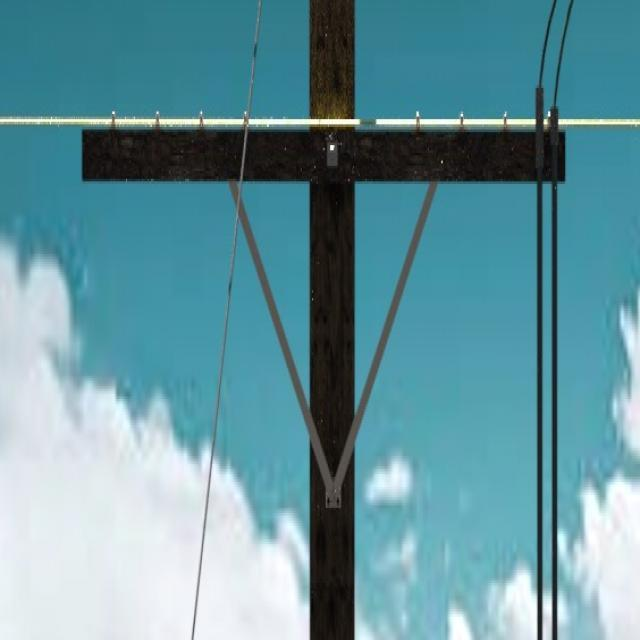crossarm: (229, 183, 438, 501), (82, 131, 568, 186)
pole: (306, 2, 356, 639)
